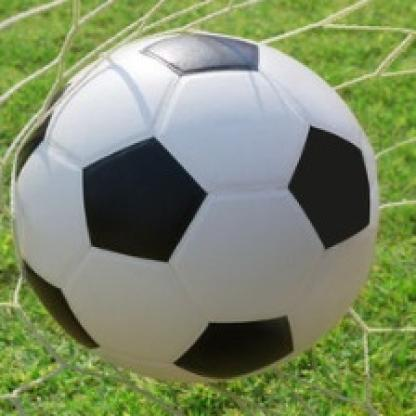ball: (13, 31, 380, 381)
